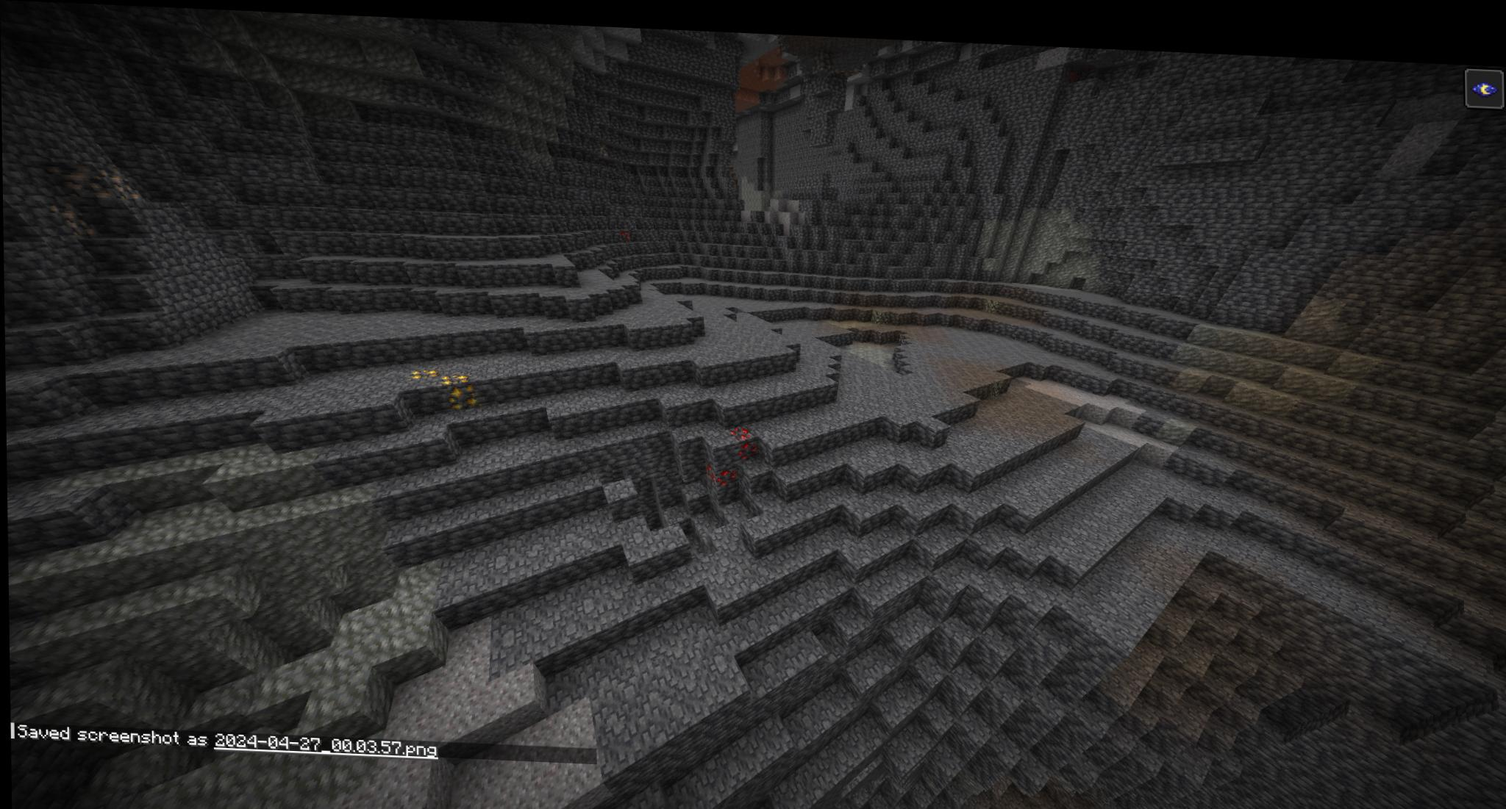gold ore: (437, 368, 475, 407), (411, 364, 443, 380)
iron ore: (60, 163, 137, 208), (40, 194, 93, 239)
redstone ore: (731, 417, 755, 446), (708, 457, 738, 478)
